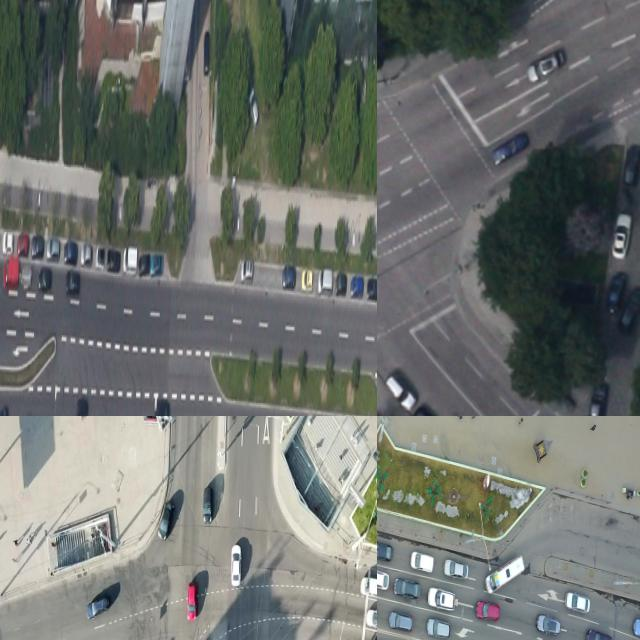UAI: (524, 48, 565, 84), (489, 130, 529, 166), (383, 372, 418, 413), (609, 211, 632, 260), (616, 287, 640, 333), (603, 273, 627, 317), (621, 140, 640, 186), (585, 380, 607, 416), (393, 576, 422, 601), (443, 557, 470, 582), (427, 587, 455, 611), (247, 83, 260, 134), (157, 499, 173, 540), (388, 609, 414, 634), (534, 612, 561, 636), (563, 591, 590, 615), (410, 550, 435, 575), (475, 599, 500, 624), (424, 616, 450, 640), (85, 596, 108, 621), (2, 256, 18, 289), (229, 544, 241, 586), (411, 403, 448, 416), (186, 582, 198, 620), (317, 266, 332, 296), (123, 245, 137, 274), (584, 626, 613, 640), (203, 487, 214, 523), (377, 537, 393, 561), (65, 269, 79, 296), (202, 30, 210, 76), (38, 266, 52, 290), (282, 264, 296, 288), (107, 248, 120, 272), (64, 239, 77, 263), (30, 234, 43, 258), (350, 275, 363, 298), (150, 253, 163, 276), (46, 237, 59, 260), (335, 271, 347, 295), (80, 243, 92, 267), (17, 231, 29, 255), (241, 259, 253, 282), (20, 264, 31, 288), (2, 231, 13, 255), (377, 566, 388, 590), (154, 399, 169, 416), (366, 277, 377, 300), (301, 267, 312, 290), (138, 252, 149, 275), (365, 608, 377, 629), (631, 615, 640, 640), (76, 398, 88, 416), (95, 245, 104, 268), (0, 404, 8, 416)
harvester: (485, 553, 526, 594), (359, 576, 377, 600)
